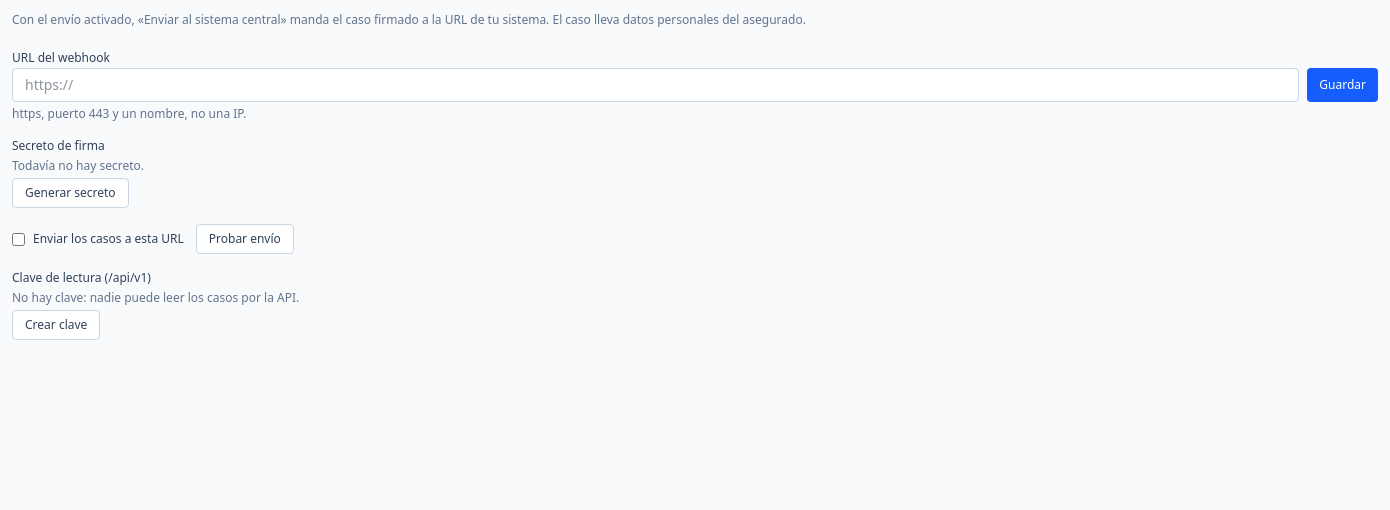
Scenario: CoreSyncPanel › rotar y revocar la clave no borran el secreto recién generado
Click the button "Generar secreto" at (70, 193), box left=12, top=178, right=129, bottom=208
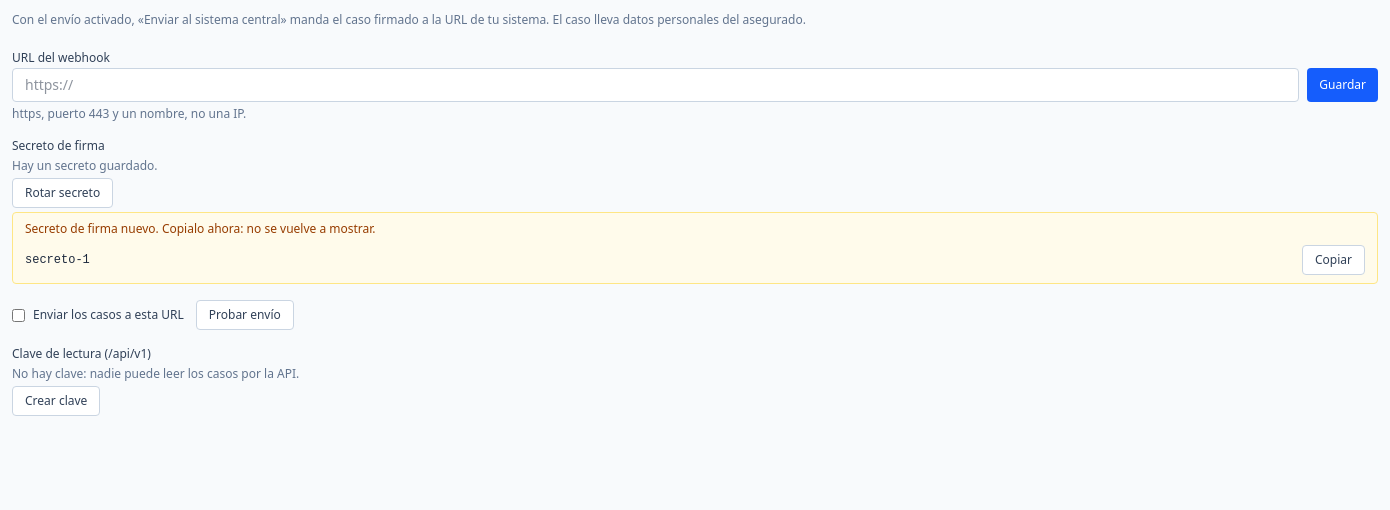
Result: the text "secreto-1" is shown at left=25, top=253, right=90, bottom=267
Result: the message "Secreto de firma nuevo." shows "Secreto de firma nuevo. Copialo ahora" at left=12, top=212, right=1378, bottom=284
Click the button "Crear clave" at (56, 401), box left=12, top=386, right=100, bottom=416
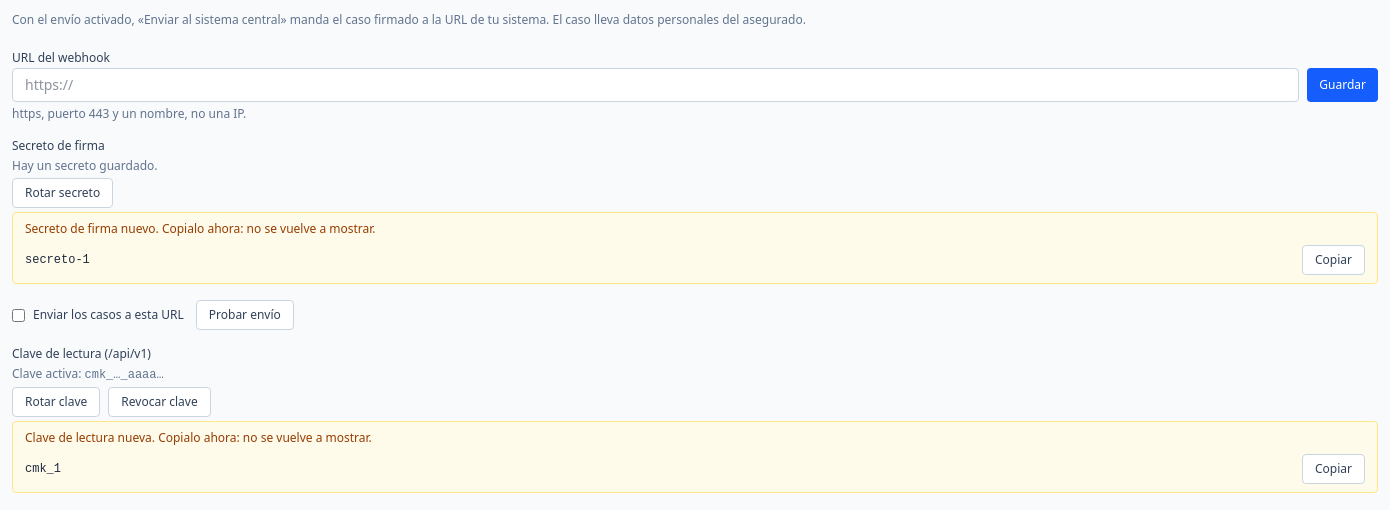
Result: the text "cmk_1" is shown at left=25, top=462, right=61, bottom=476
Click the button "Rotar clave" at (56, 402), box left=12, top=387, right=100, bottom=417
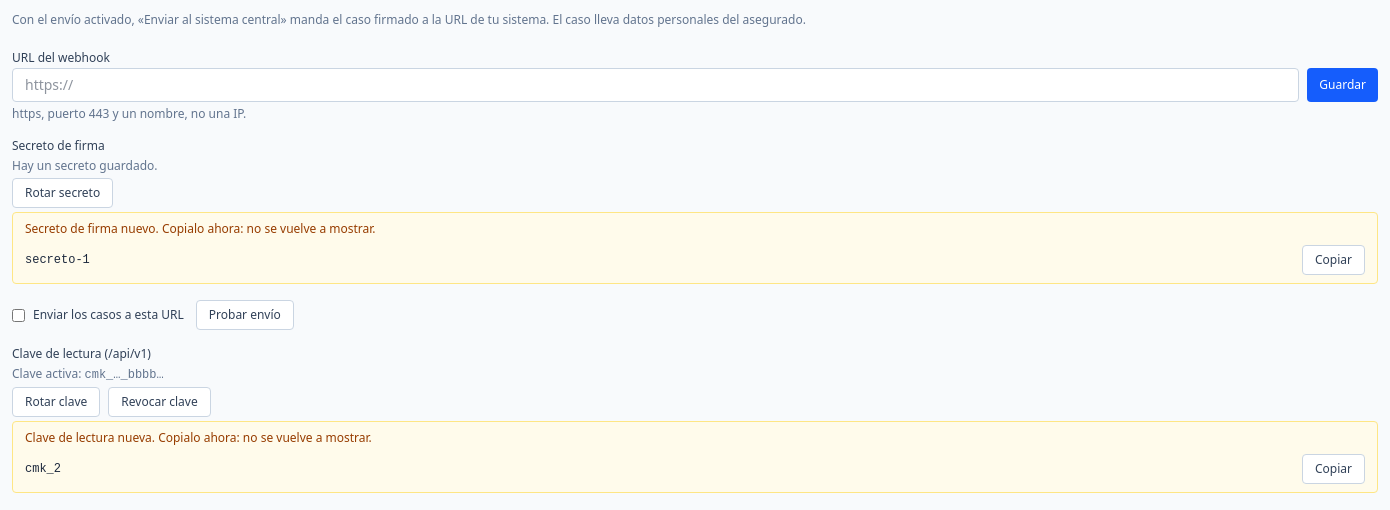
Result: the text "secreto-1" is shown at left=25, top=253, right=90, bottom=267
Result: the text "cmk_2" is shown at left=25, top=462, right=61, bottom=476
Click the button "Revocar clave" at (160, 402), box left=108, top=387, right=211, bottom=417
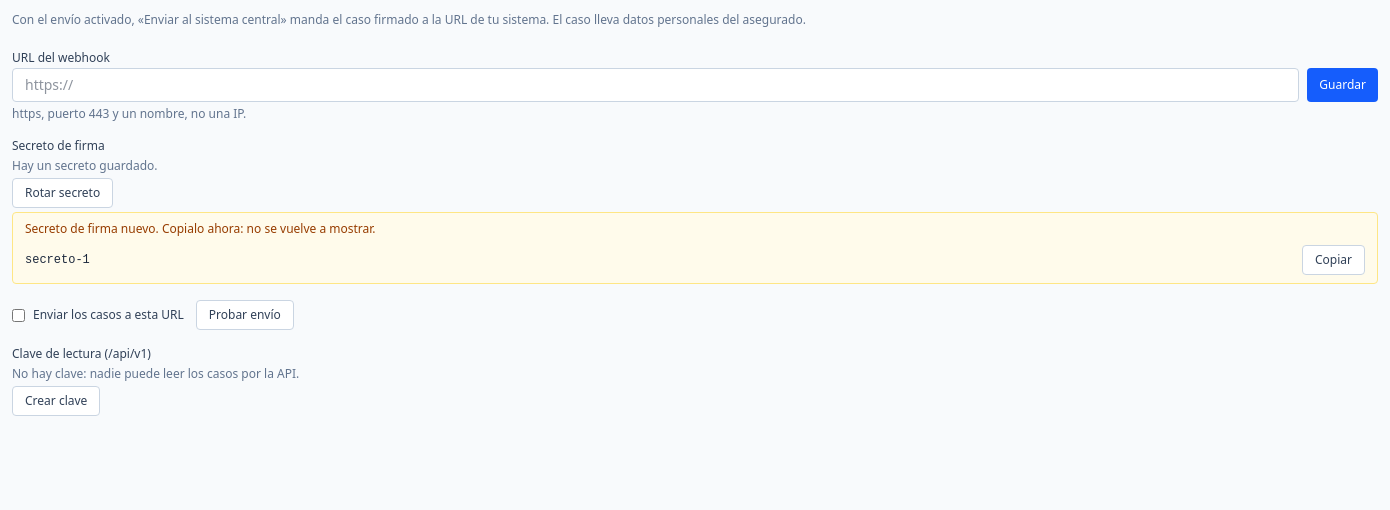
Result: the text "secreto-1" is shown at left=25, top=253, right=90, bottom=267
Result: the text "Clave de lectura nueva." is gone
